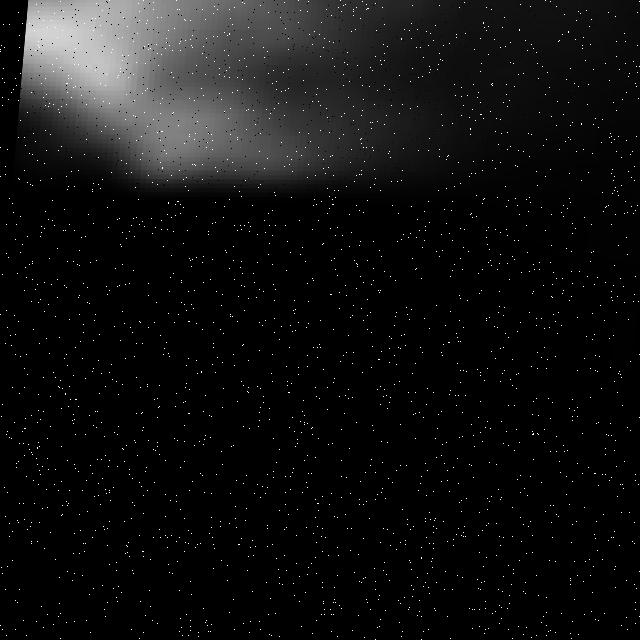person: (9, 1, 546, 262)
